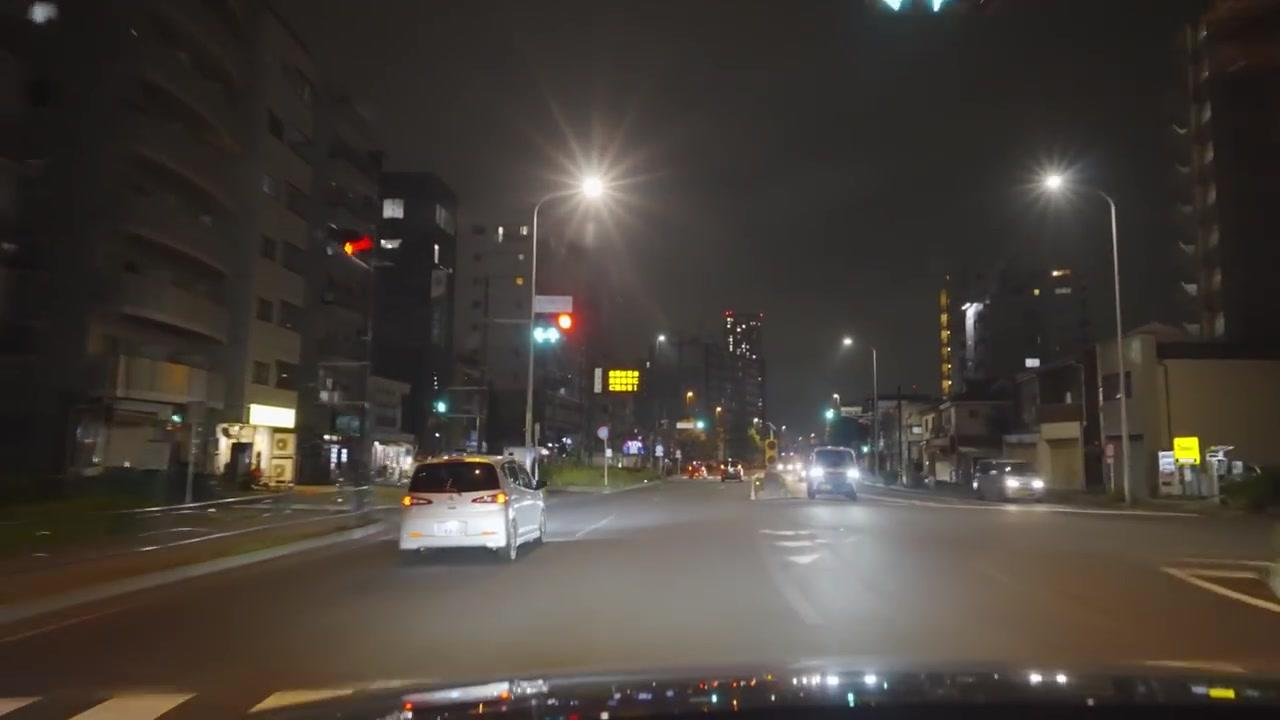car: (398, 454, 547, 565), (972, 460, 1046, 502), (806, 447, 861, 500), (1206, 444, 1238, 477)
traffic light: (341, 231, 374, 270), (531, 315, 563, 355), (556, 312, 574, 336), (169, 408, 185, 428), (433, 397, 448, 414)
